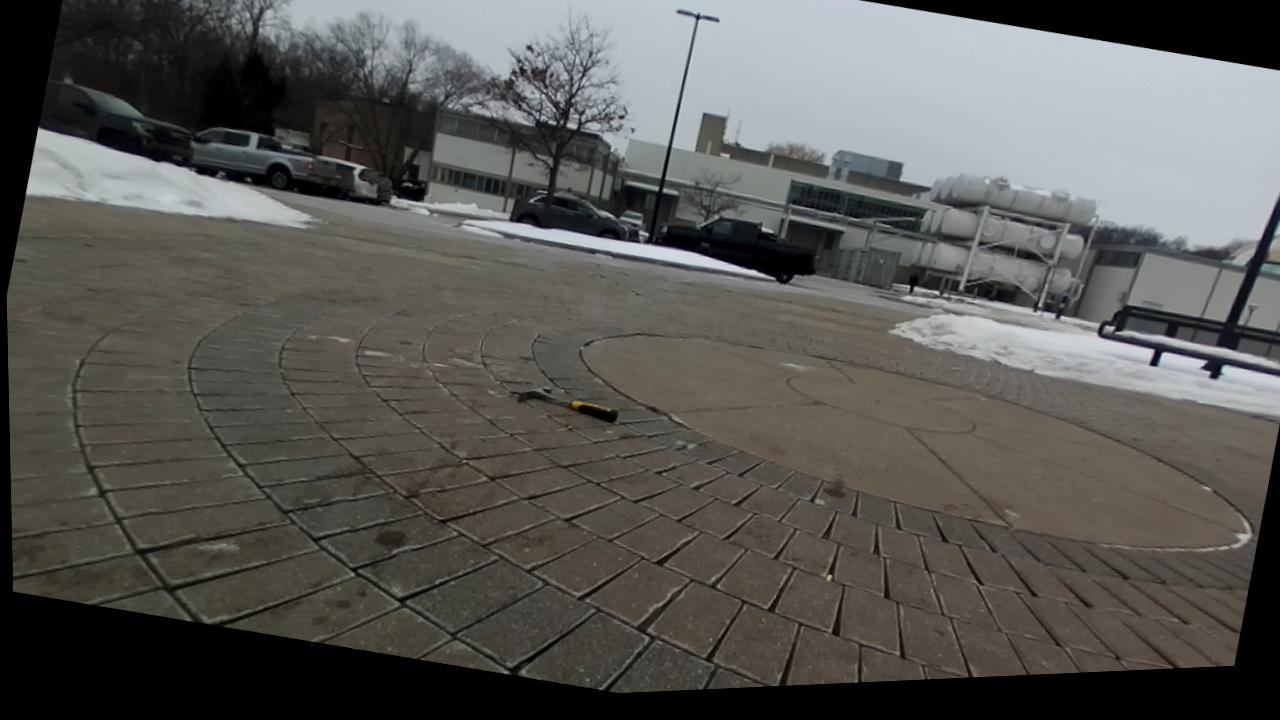pick: (515, 387, 616, 422)
